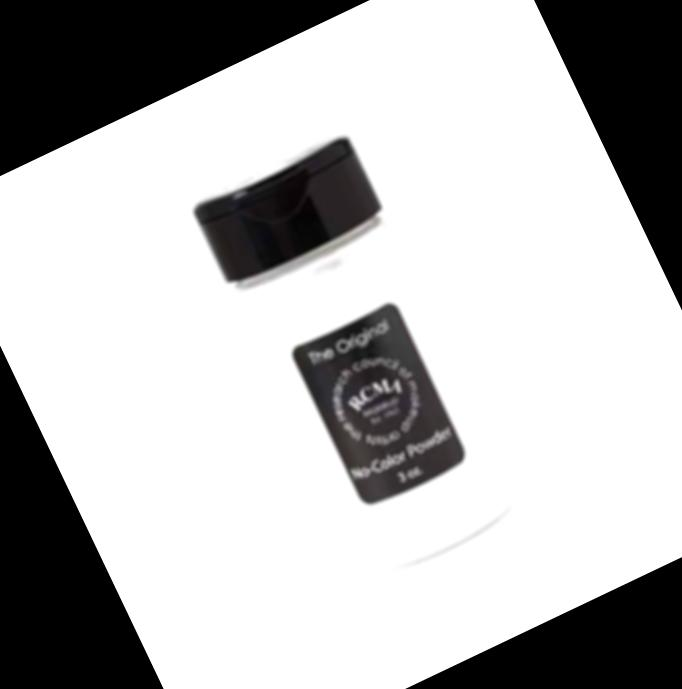cosmetic: (183, 127, 533, 583)
